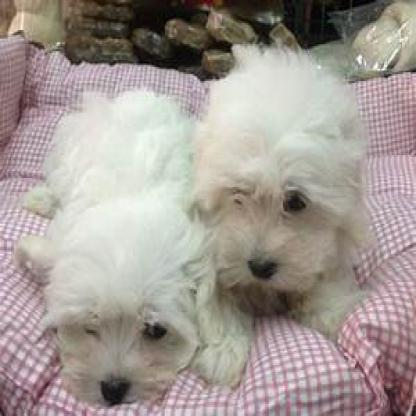dog: (198, 44, 370, 390), (16, 90, 202, 404)
